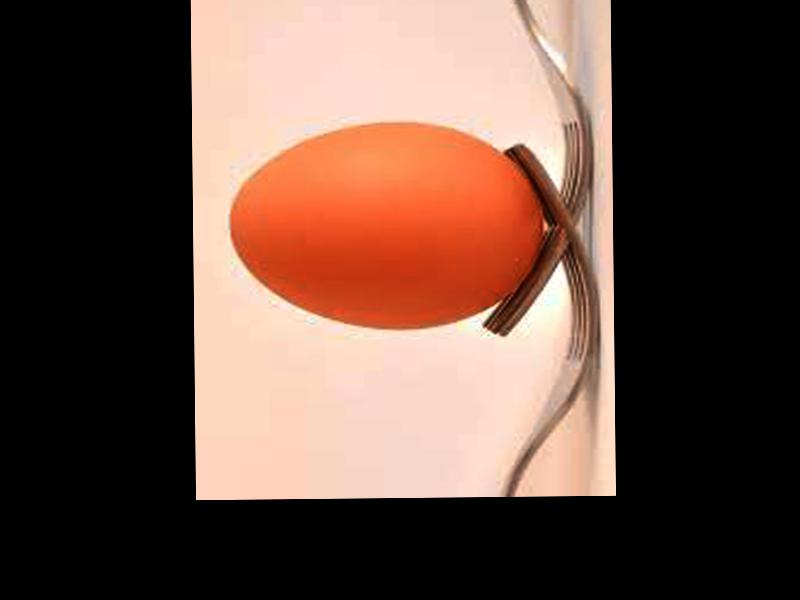Eggs: (229, 120, 544, 330)
